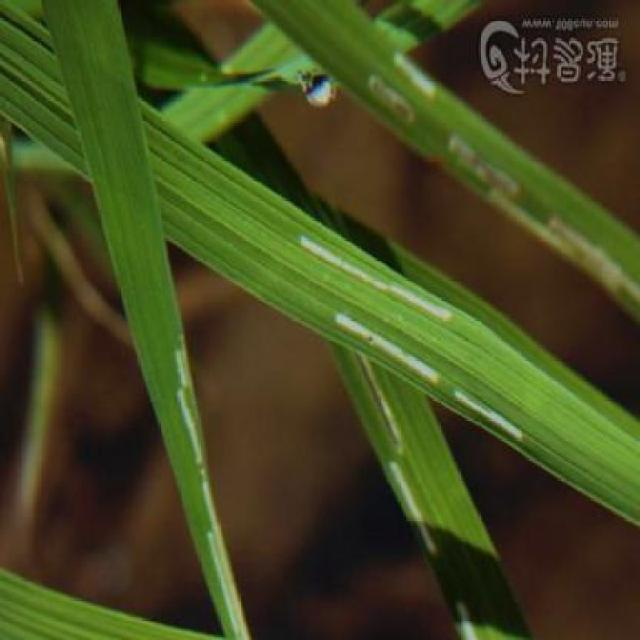rice-bug: (298, 67, 340, 108)
